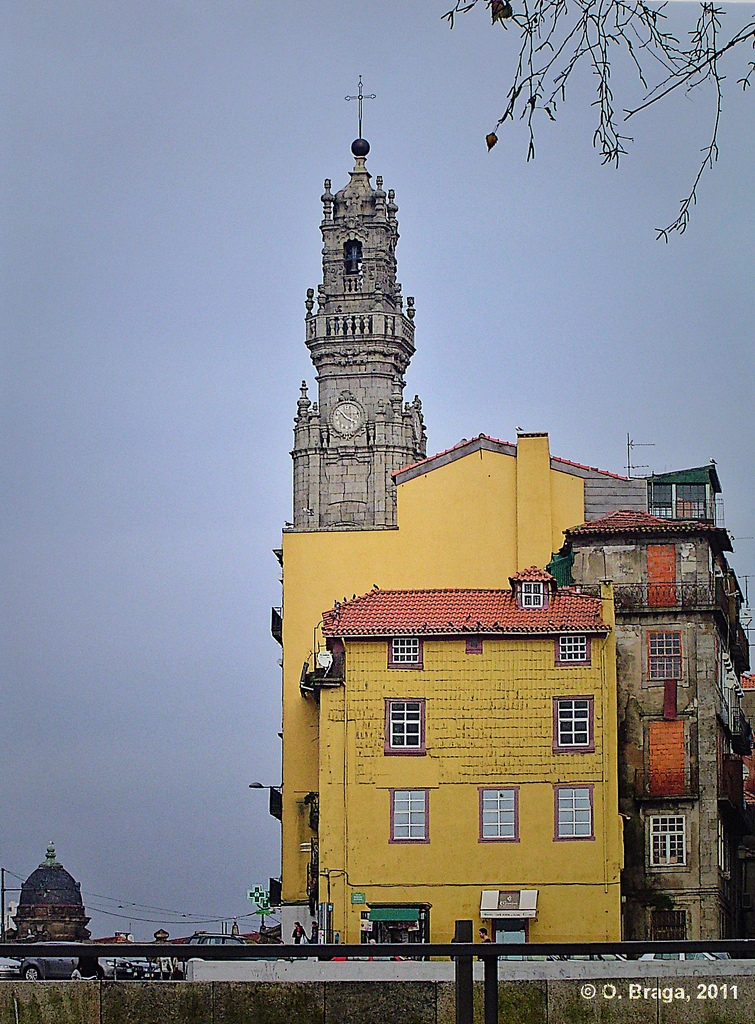clerigos: (288, 72, 429, 537)
